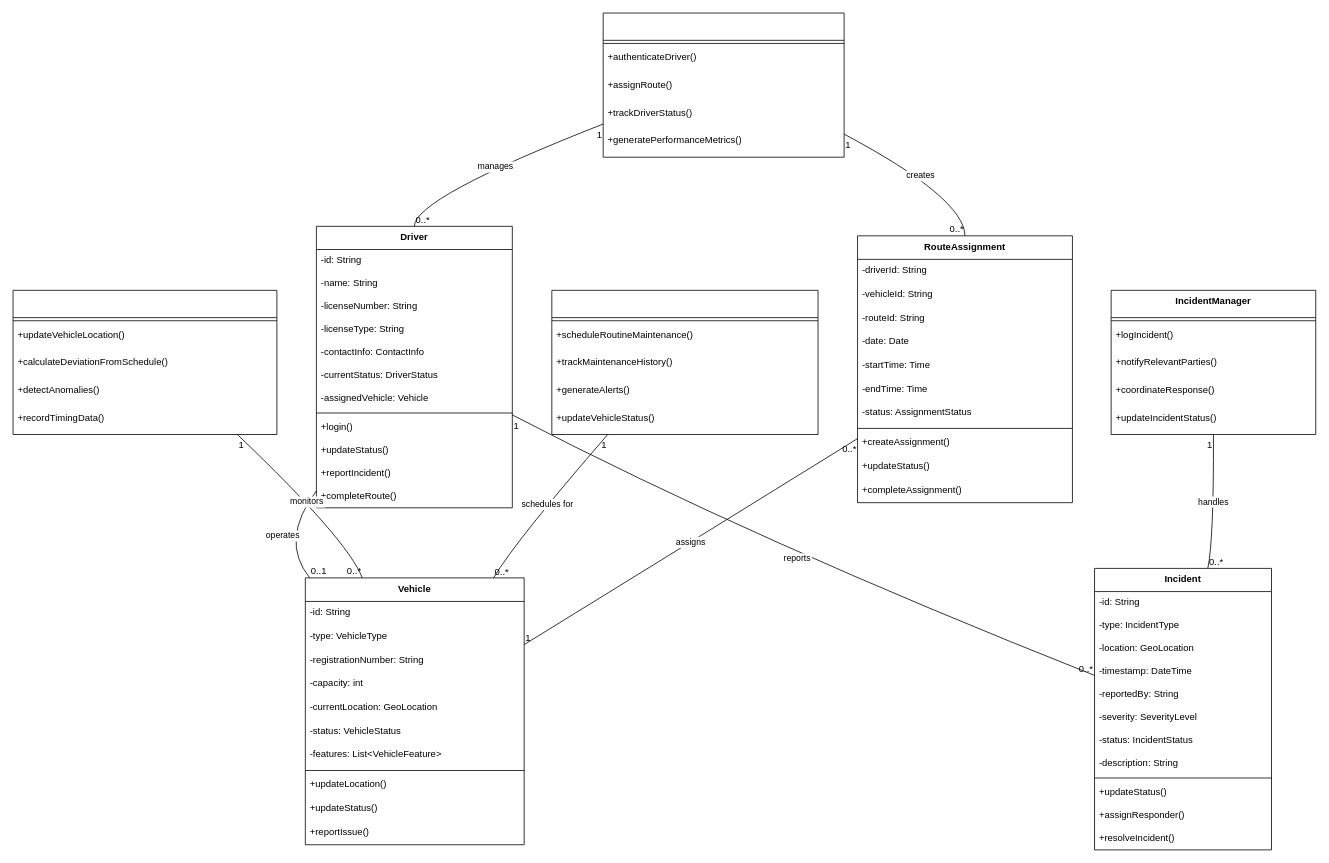
The diagram is 1329 pixels wide and 863 high, and some of its shapes have lost their labels. Each missing label, with the box of its shape:
DriverManager: (602, 12, 844, 157)
MaintenanceScheduler: (551, 290, 818, 434)
VehicleTracker: (12, 290, 277, 434)
